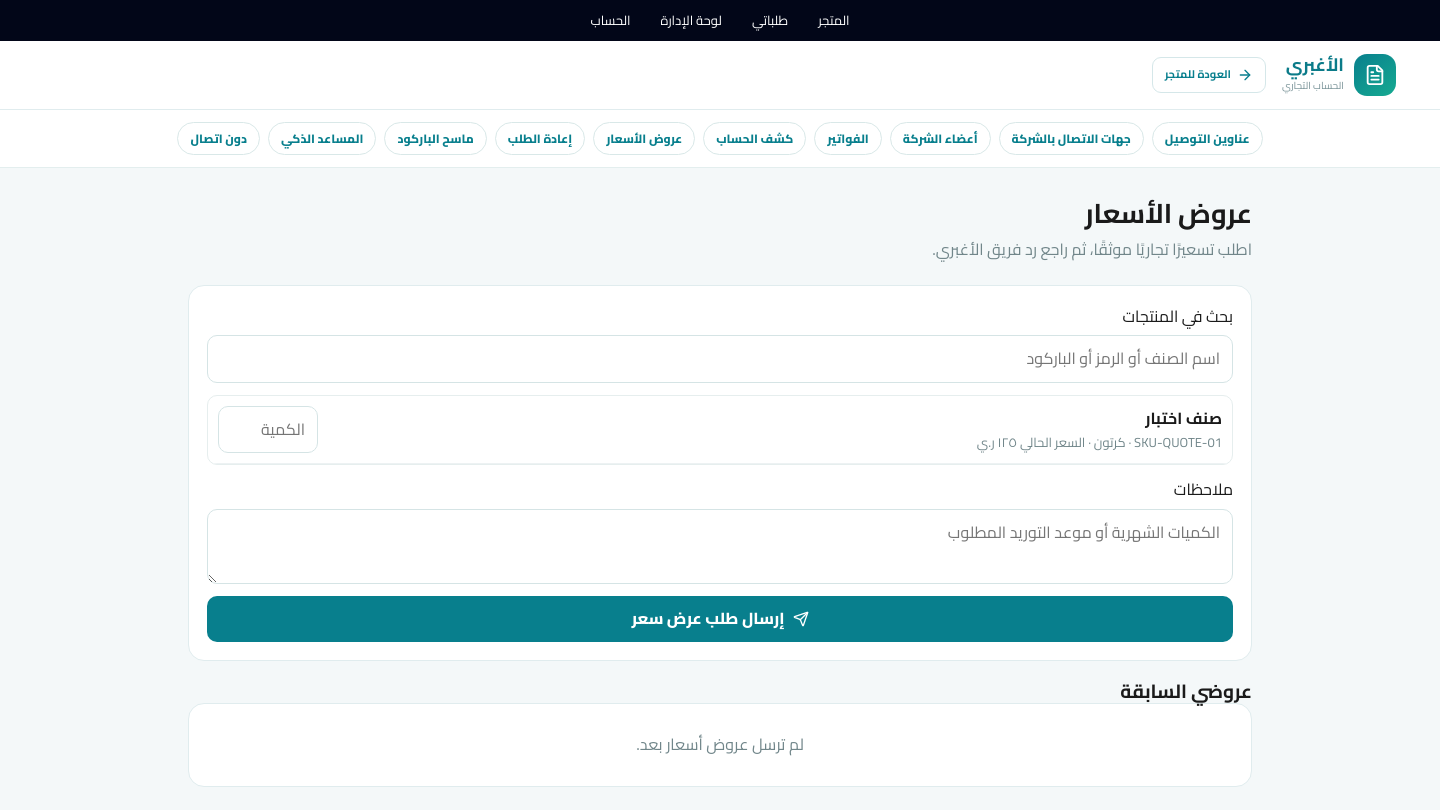
customer quotes real route acceptance › does not show quote-request success on RPC failure and only confirms after server acceptance
Step 1. Type "3" into the number field named "كمية صنف اختبار" → (268, 430), box [218,406,318,454]
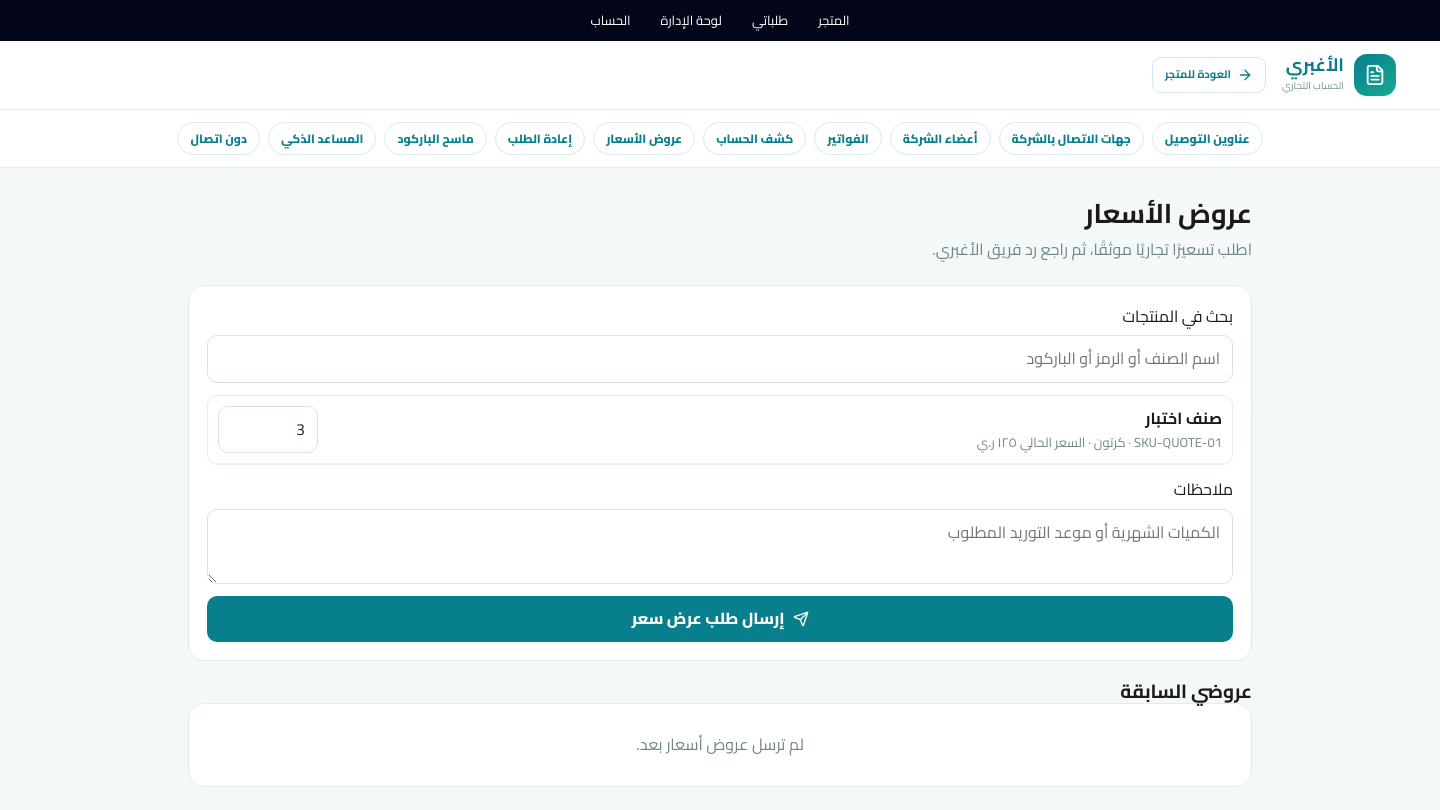
Step 2. Type "  توريد شهري  " into the text box labelled "ملاحظات" → (720, 546), box [207,509,1233,584]
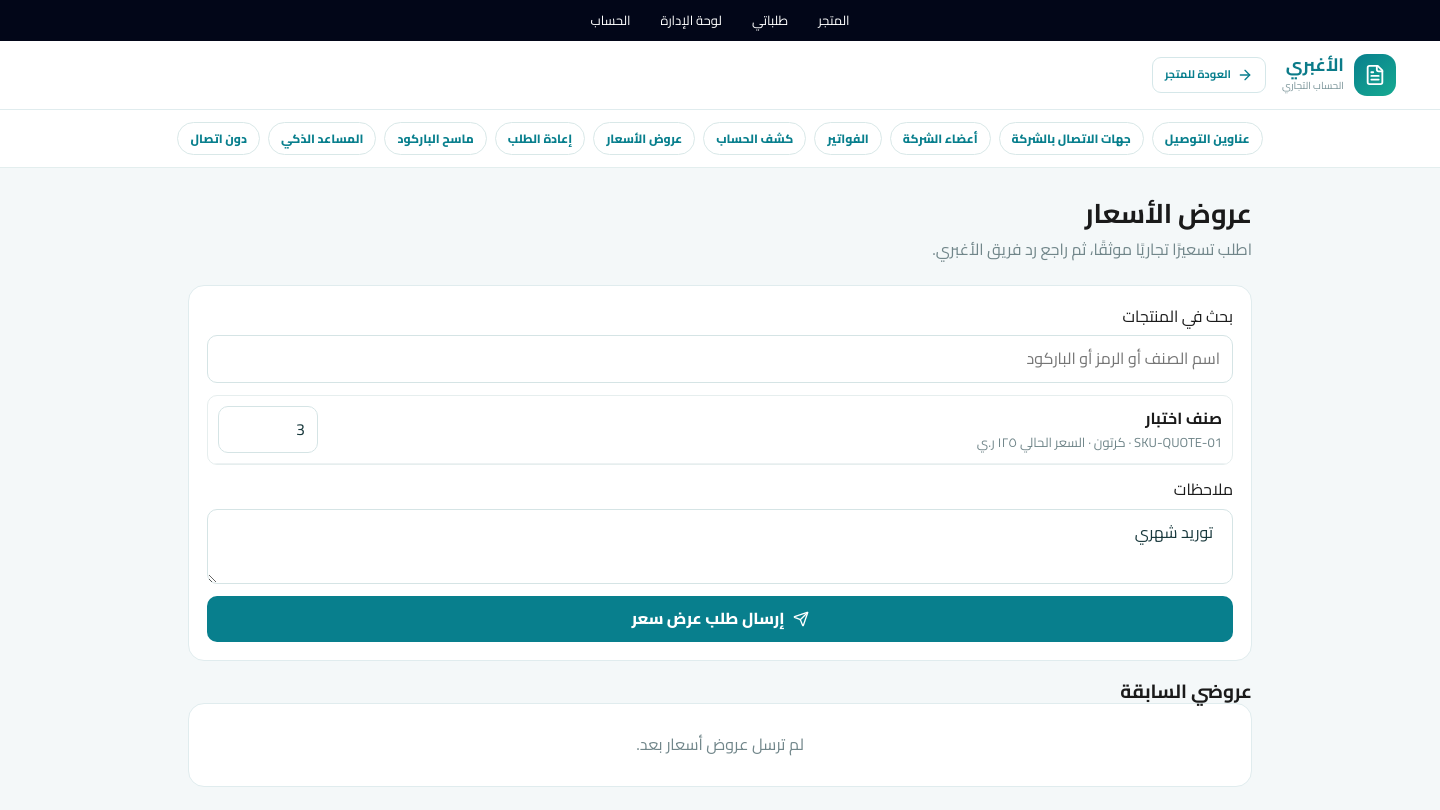
Step 3. Click the button "إرسال طلب عرض سعر" → (720, 619), box [207,596,1233,642]
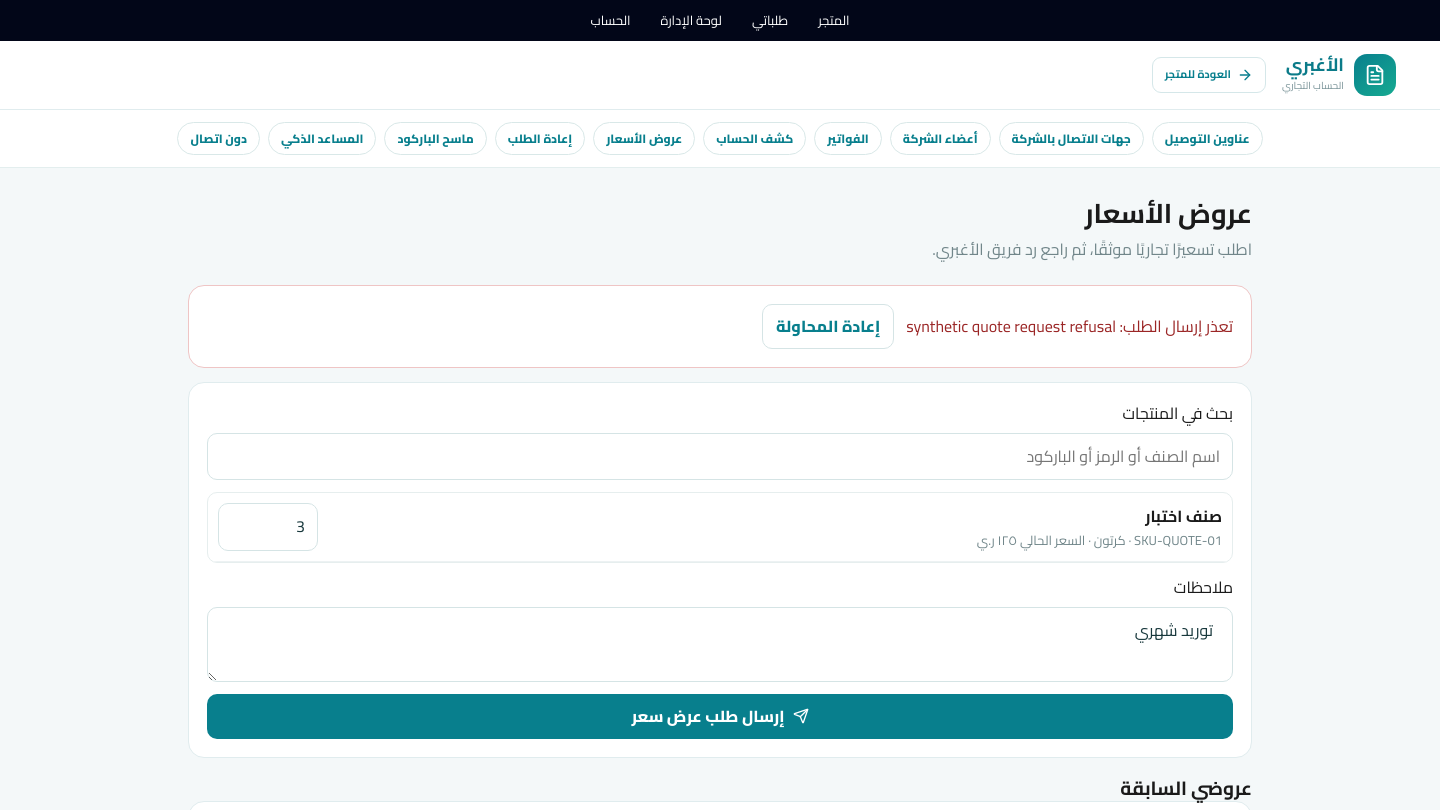
Expected: the text "تم إرسال طلب عرض السعر" is not shown
Now the message "تعذر إرسال الطلب: synthetic quote request refusal إعادة المحاولة" is shown, box [188,285,1252,368]
Step 4. Click the button "إرسال طلب عرض سعر" → (720, 716), box [207,694,1233,739]
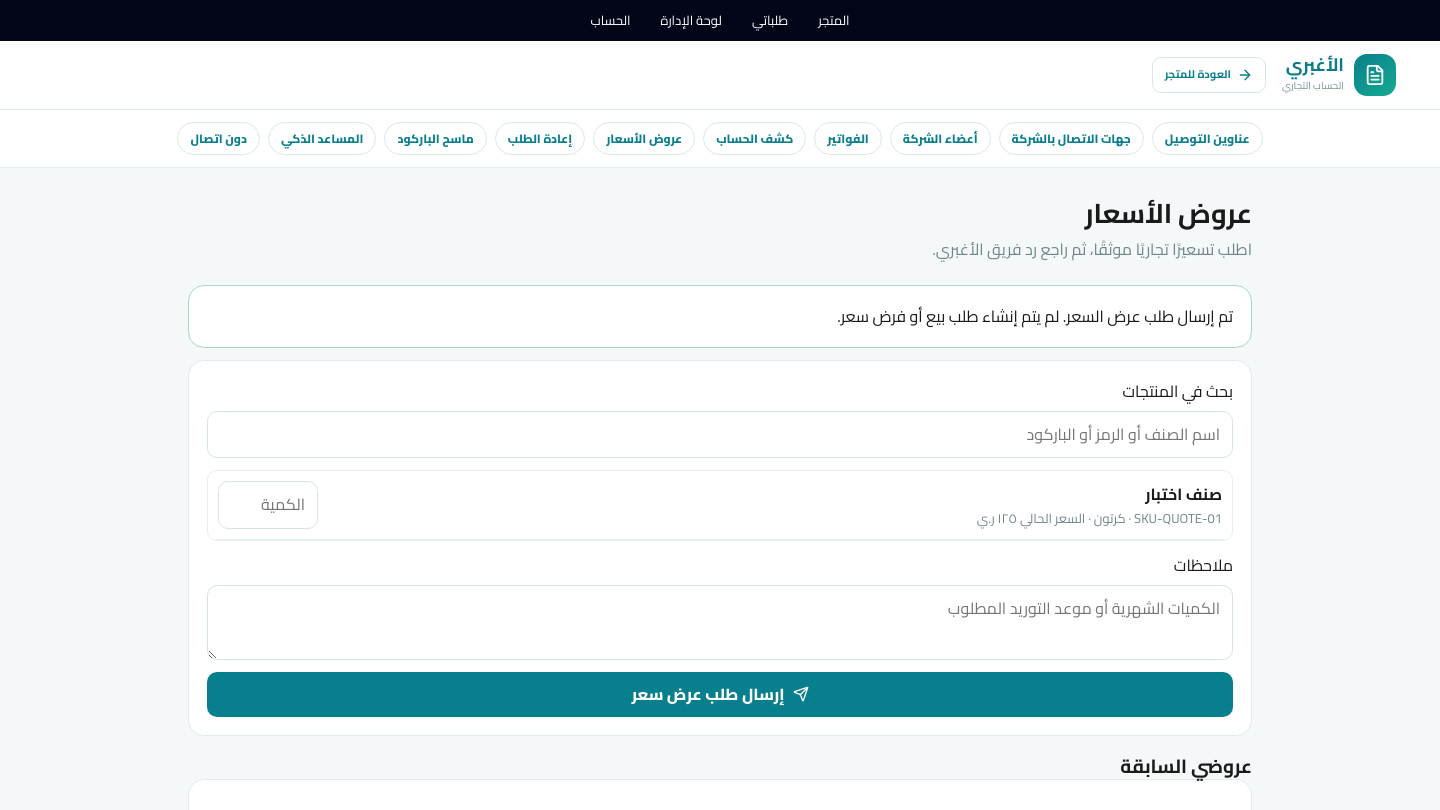
Now the message "تعذر إرسال الطلب: synthetic quote request refusal إعادة المحاولة" is gone
Now the message "تم إرسال طلب عرض السعر. لم يتم إنشاء طلب بيع أو فرض سعر." is shown, box [188,285,1252,348]
